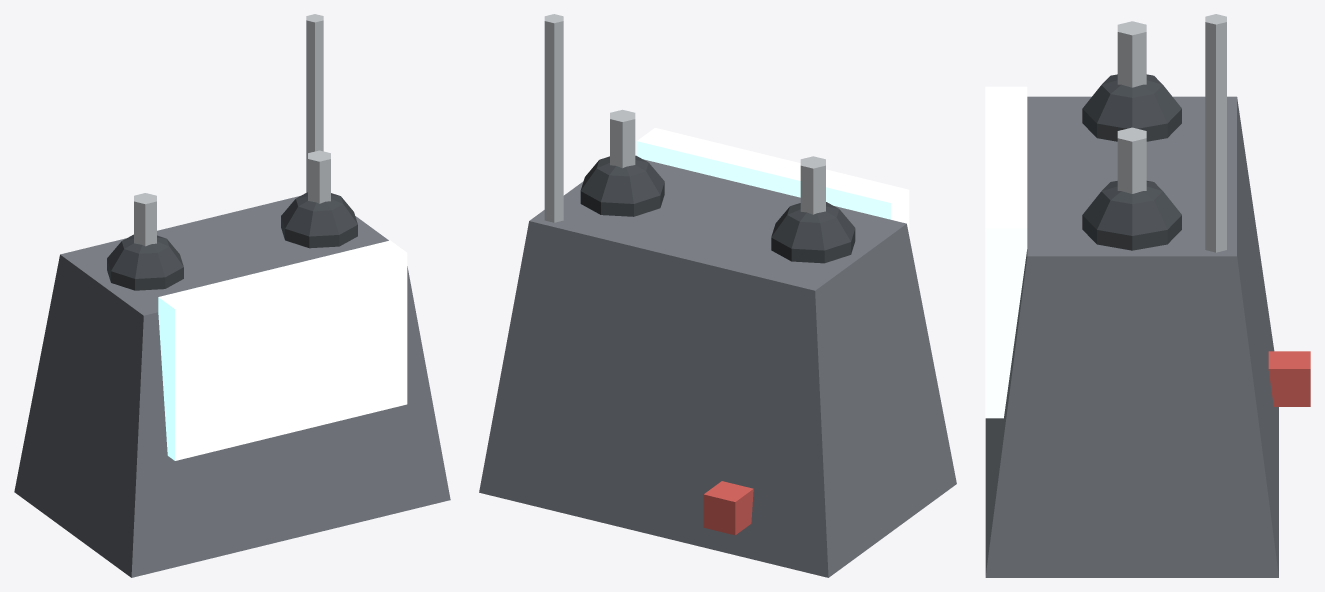
Rendered from controller-handheld.glb.
3 renders of one model, left to right at view 1: azimuth 30°, elevation 25°; view 2: azimuth 150°, elevation 25°; view 3: azimuth 270°, elevation 25°, orthographic. The views are drawn at different scales.
Visible parts, largest first — view 1: controller-handheld; view 2: controller-handheld; view 3: controller-handheld.
Boxes of the visible parts, box(x1,y1,x2,y2) form: controller-handheld: box(14, 14, 450, 577); controller-handheld: box(479, 14, 956, 577); controller-handheld: box(985, 14, 1310, 577).
Size of the model in its own units: 0.22 by 0.28 by 0.155.
